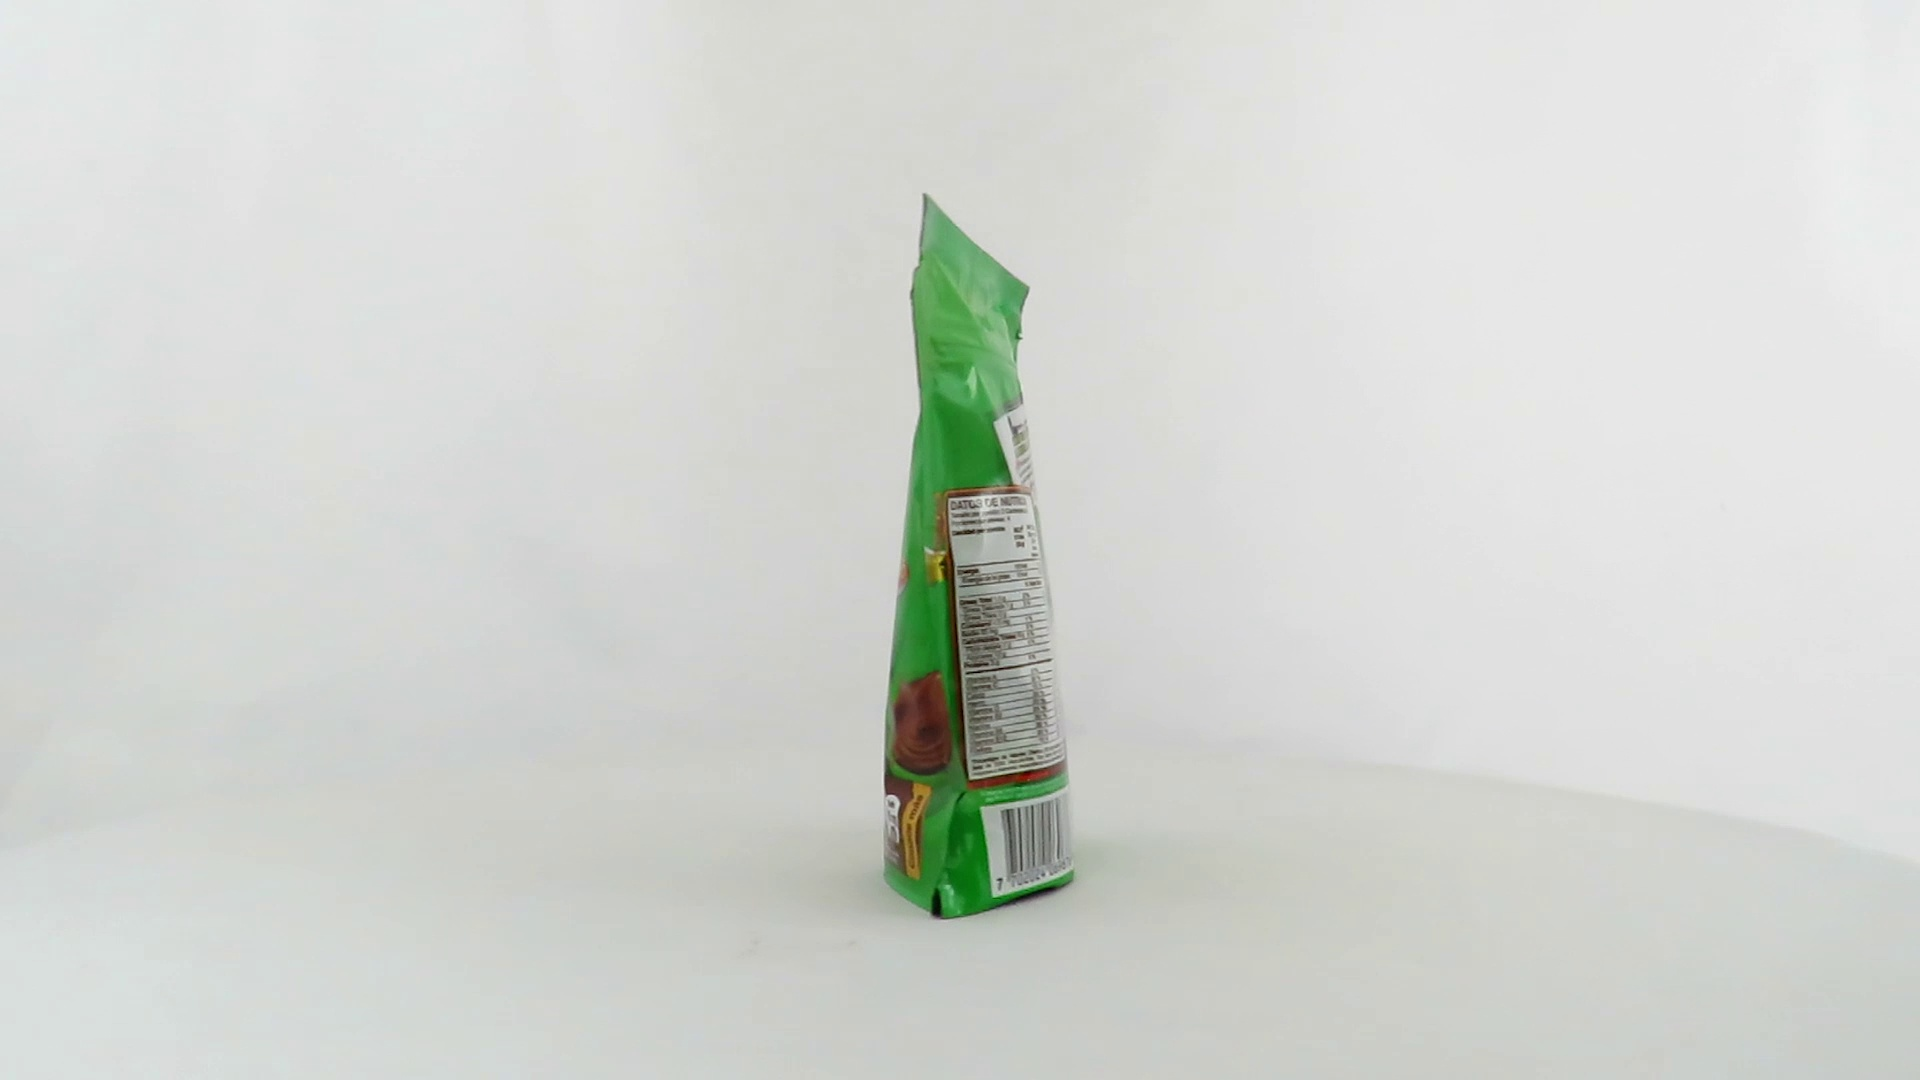COL0170203DYP10000: (878, 189, 1089, 926)
